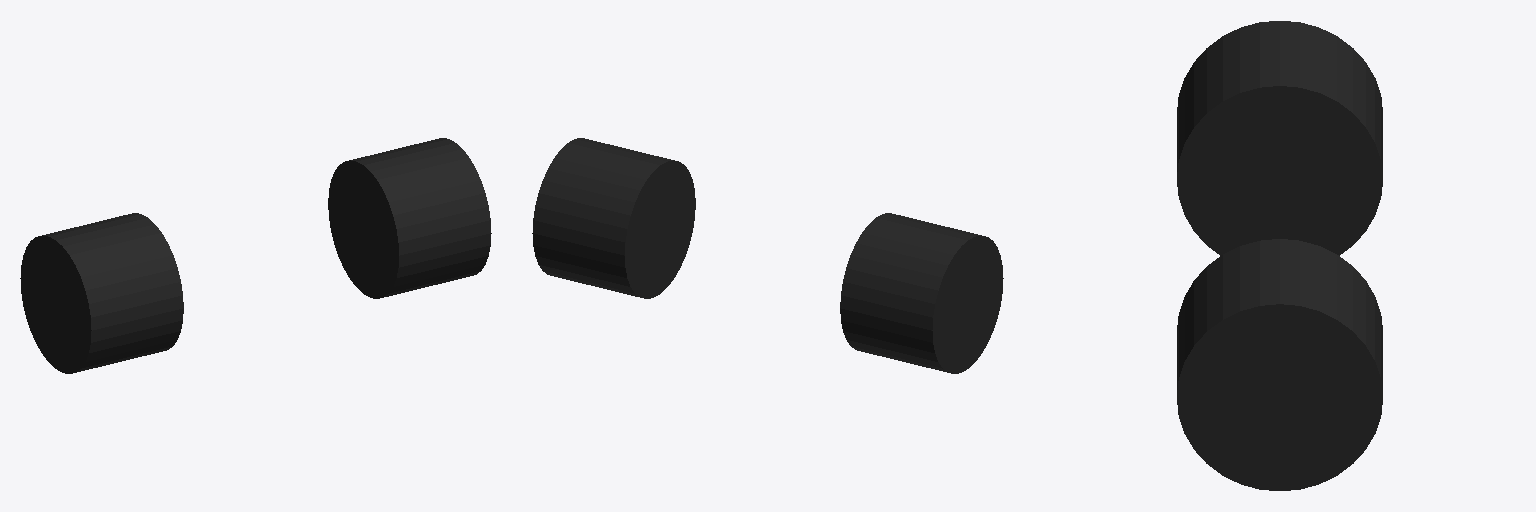
URDF robot description (dobot_arm_kickstarter):
<?xml version="0.0" ?>
<robot name="dobot_arm_kickstarter">
  <!-- URDF copyright [author] for http://pybullet.org -->
  <link name="baseLink">
    <inertial>
      <origin rpy="0 0 0" xyz="0 0 0"/>
       <mass value=".5"/>
       <inertia ixx="0.1" ixy="0" ixz="0" iyy="0.1" iyz="0" izz="0.1"/>
    </inertial>
    <visual>
      <origin rpy="0 0 0" xyz="0 0 0"/>
             <geometry>
        <mesh filename="cad/Dobot/A3.stl" scale="1 1 1"/>
      </geometry>
       <material name="blue">
        <color rgba="0.2 0.6 1 1"/>
      </material>
    </visual>
    
    <collision>
      <origin rpy="0 -1.570796 0" xyz="0 0 0"/>
      <geometry>
      <box size="0.005  0.125 0.105"/>
      </geometry>
    </collision>
  </link>
   <link name="linkA">
    <inertial>
      <origin rpy="0 0 0" xyz="0 0 0"/>
      <mass value=".3"/>
      <inertia ixx="0.048966669" ixy="0" ixz="0" iyy="0.046466667" iyz="0" izz="0.0041666669"/>
    </inertial>
    <visual>
      <origin rpy="0 0 0" xyz="0.0325 0 0"/>
      <geometry>
      <!--
        <box size="0.07  0.050 0.11"/>
        <box size="0.005  0.05 0.11"/>
      -->
       <mesh filename="cad/Dobot/A1_2.stl" scale="1 1 1"/>
      </geometry>
	   <material name="blue"/>
	  </visual>
	   <visual>
      <origin rpy="0 0 0" xyz="-0.0325 0 0"/>
      <geometry>
       <mesh filename="cad/Dobot/A1_2.stl" scale="1 1 1"/>
      </geometry>
	   <material name="blue"/>
	  </visual>
	  <visual>
      <origin rpy="0 0 0" xyz="0.005 -0.047  0.01"/>
      <geometry>
       <mesh filename="cad/Dobot/A22.stl" scale="1 1 1"/>
      </geometry>
	   <material name="blue"/>
	  </visual>
	   <visual>
      <origin rpy="0 0 0" xyz="0 -0.0245 -0.045"/>
             <geometry>
        <mesh filename="cad/Dobot/A4.stl" scale="1 1 1"/>
      </geometry>
       <material name="blue"/>
    </visual>
    
     <collision>
       <origin rpy="0 0 0" xyz="0 0 0"/>
       <geometry>
          <box size="0.07  0.055 0.11"/>
       </geometry>
     </collision>
   </link>
   <joint name="joint_baseLink_childA" type="continuous">
    <parent link="baseLink"/>
    <child link="linkA"/>
	<dynamics damping="1.0" friction="0.0001"/>
    <origin xyz="0.0 0.0 0.06"/>
		<axis xyz="0 0 1"/>
  </joint>
  
   <link name="motorA">
    <inertial>
      <origin rpy="0 1.57 0" xyz="0 0 0"/>
      <mass value=".1"/>
      <inertia ixx="0.048966669" ixy="0" ixz="0" iyy="0.046466667" iyz="0" izz="0.0041666669"/>
    </inertial>
    <visual>
      <origin rpy="0 1.57 0" xyz="0 0 0"/>
      <geometry>
        <cylinder length="0.03" radius="0.02"/>
      </geometry>
	   <material name="black">
	   <color rgba="0.2 0.2 0.2 1"/>
	   </material>
	  </visual>
     <collision>
       <origin rpy="0 1.57 0" xyz="0 0 0"/>
      <geometry>
        <cylinder length="0.03" radius="0.02"/>
      </geometry>
     </collision>
   </link>
   
    <joint name="joint_linkAmotorA" type="continuous">
    <parent link="linkA"/>
    <child link="motorA"/>
	<dynamics damping="1.0" friction="0.0001"/>
    <origin xyz="0.05 0.0 0.03"/>
    <axis xyz="1 0 0"/>
  </joint>
  
   <link name="motorB">
    <inertial>
      <origin rpy="0 1.57 0" xyz="0 0 0"/>
      <mass value=".1"/>
      <inertia ixx="0.048966669" ixy="0" ixz="0" iyy="0.046466667" iyz="0" izz="0.0041666669"/>
    </inertial>
    <visual>
      <origin rpy="0 1.57 0" xyz="0 0 0"/>
      <geometry>
        <cylinder length="0.03" radius="0.02"/>
      </geometry>
	   <material name="black">
	   <color rgba="0.2 0.2 0.2 1"/>
	   </material>
	  </visual>
     <collision>
       <origin rpy="0 1.57 0" xyz="0 0 0"/>
      <geometry>
        <cylinder length="0.03" radius="0.02"/>
      </geometry>
     </collision>
   </link>
   
    <joint name="joint_linkAmotorB" type="continuous">
    <parent link="linkA"/>
    <child link="motorB"/>
	<dynamics damping="1.0" friction="0.0001"/>
    <origin xyz="-0.05 0.0 0.03"/>
    <axis xyz="-1 0 0"/>
  </joint>
  
   <link name="linkA9">
    <inertial>
      <origin rpy="0 0 0" xyz="0 0 0.075"/>
      <mass value=".1"/>
      <inertia ixx="0.048966669" ixy="0" ixz="0" iyy="0.046466667" iyz="0" izz="0.0041666669"/>
    </inertial>
    <visual>
      <origin rpy="0 0 0" xyz="0 0 0.075"/>
      <geometry>
        <mesh filename="cad/Dobot/A9.stl" scale="1 1 1"/>
      </geometry>
	   <material name="blue"/>
	  </visual>
     <collision>
       <origin rpy="0 0 0" xyz="0 0 0.07"/>
       <geometry>
          <box size="0.005 0.02 0.18"/>
       </geometry>
     </collision>
   </link>
   
   <joint name="joint_linkAlinkA9" type="continuous">
    <parent link="linkA"/>
    <child link="linkA9"/>
	<dynamics damping="1.0" friction="0.0001"/>
    <origin xyz="0 -0.026 0.054"/>
		<axis xyz="1 0 0"/>
  </joint>
  
  
   
    <link name="linkB">
    <inertial>
      <origin rpy="0 0 0" xyz="0 0 0.075"/>
      <mass value=".1"/>
      <inertia ixx="0.048966669" ixy="0" ixz="0" iyy="0.046466667" iyz="0" izz="0.0041666669"/>
    </inertial>
    <visual>
      <origin rpy="1.570796 0 0" xyz="0.025 -0.012 0.077"/>
      <geometry>
        <!-- <box size="0.036  0.036 0.150"/> -->
        <!-- <box size="0.005  0.185 0.05"/>-->
        <mesh filename="cad/Dobot/A12_13.stl" scale="1 1 1"/>
      </geometry>
	   <material name="blue"/>
	  </visual>
	  <visual>
      <origin rpy="1.570796 0 0" xyz="-0.025 -0.012 0.077"/>
      <geometry>
        <!-- <box size="0.036  0.036 0.150"/> -->
        <!-- <box size="0.005  0.185 0.05"/>-->
        <mesh filename="cad/Dobot/A12_13.stl" scale="1 1 1"/>
      </geometry>
	   <material name="blue"/>
	  </visual>
     <collision>
       <origin rpy="0 0 0" xyz="0 0 0.075"/>
       <geometry>
          <box size="0.036  0.036 0.150"/>
       </geometry>
     </collision>
   </link>
   
   <joint name="joint_linkAlinkB" type="continuous">
    <parent link="linkA"/>
    <child link="linkB"/>
	<dynamics damping="1.0" friction="0.0001"/>
    <origin xyz="0 0.0 0.04"/>
		<axis xyz="1 0 0"/>
  </joint>
  
    <link name="linkC2">
    <inertial>
      <origin rpy="0 0 0" xyz="0 0 0.0"/>
      <mass value=".1"/>
      <inertia ixx="0.048966669" ixy="0" ixz="0" iyy="0.046466667" iyz="0" izz="0.0041666669"/>
    </inertial>
    <visual>
      <origin rpy="0 0 0" xyz="0 0 0"/>
      <geometry>
        <mesh filename="cad/Dobot/A11.stl" scale="1 1 1"/>
      </geometry>
	   <material name="blue"/>
	  </visual>
	   <collision>
       <origin rpy="0 0 0" xyz="0 0 0.0"/>
       <geometry>
          <box size="0.005  0.05 0.031"/>
       </geometry>
     </collision>
   </link>
   
    <joint name="joint_linkBlinkC2" type="continuous">
    <parent link="linkB"/>
    <child link="linkC2"/>
	<dynamics damping="1.0" friction="0.0001"/>
    <origin xyz="0.0 0.0 0.150"/>
		<axis xyz="1 0 0"/>
  </joint>
  
  <link name="linkC">
    <inertial>
      <origin rpy="0 0 0" xyz="0 0 0.08"/>
      <mass value=".1"/>
      <inertia ixx="0.048966669" ixy="0" ixz="0" iyy="0.046466667" iyz="0" izz="0.0041666669"/>
    </inertial>
    <visual>
      <origin rpy="1.570796 0 0" xyz="0.02 -0.005 0.07"/>
      <geometry>
        <!-- <box size="0.026  0.026 0.150"/> -->
        <!-- <box size="0.005  0.22 0.06"/> -->
        <mesh filename="cad/Dobot/A6_7.stl" scale="1 1 1"/>
      </geometry>
	   <material name="blue"/>
	  </visual>
	  <visual>
      <origin rpy="1.570796 0 0" xyz="-0.02 -0.005 0.07"/>
      <geometry>
        <!-- <box size="0.026  0.026 0.150"/> -->
        <!-- <box size="0.005  0.22 0.06"/> -->
        <mesh filename="cad/Dobot/A6_7.stl" scale="1 1 1"/>
      </geometry>
	   <material name="blue"/>
	  </visual>
     <collision>
       <origin rpy="0 0 0" xyz="0 0 0.075"/>
       <geometry>
          <box size="0.026  0.026 0.21"/>
       </geometry>
     </collision>
   </link>
   
    <joint name="joint_linkBlinkC" type="continuous">
    <parent link="linkB"/>
    <child link="linkC"/>
	<dynamics damping="1.0" friction="0.0001"/>
    <origin xyz="0.0 0.0 0.150"/>
		<axis xyz="1 0 0"/>
  </joint>

  <link name="linkD">
    <inertial>
      <origin rpy="0 0 0" xyz="0 0 0.02"/>
      <mass value=".1"/>
      <inertia ixx="0.048966669" ixy="0" ixz="0" iyy="0.046466667" iyz="0" izz="0.0041666669"/>
    </inertial>
    <visual>
      <origin rpy="0 0 0" xyz="0.0 0.011 0.0"/>
      <geometry>
        <!-- <box size="0.01  0.02 0.08"/> -->
        <!-- <box size="0.005  0.045 0.037"/> -->
        <mesh filename="cad/Dobot/A17.stl" scale="1 1 1"/>
      </geometry>
	   <material name="blue"/>
	  </visual>
	  <visual>
      <origin rpy="0 0 0" xyz="0.0 0. 0.0"/>
      <geometry>
        <mesh filename="cad/Dobot/A16.stl" scale="1 1 1"/>
      </geometry>
	   <material name="blue"/>
	  </visual>
	 	  
     <collision>
       <origin rpy="0 0 0" xyz="0.00 0.045 -0.017"/>
       <geometry>
          <box size="0.02  0.08 0.005"/>
       </geometry>
     </collision>
   </link>
   
    <joint name="joint_linkClinkD" type="continuous">
    <parent link="linkC"/>
    <child link="linkD"/>
	<dynamics damping="1.0" friction="0.0001"/>
    <!-- <origin xyz="0.0 0.00 0.160"/> -->
    <origin xyz="0.0 0.00 0.160"/>
		<axis xyz="1 0 0"/>
  </joint>

<link name="linkA10">
    <inertial>
      <origin rpy="0 0 0" xyz="0 0 0.08"/>
      <mass value=".1"/>
      <inertia ixx="0.048966669" ixy="0" ixz="0" iyy="0.046466667" iyz="0" izz="0.0041666669"/>
    </inertial>
    <visual>
      <origin rpy="0 0 0" xyz="0 0 0.08"/>
      <geometry>
        <mesh filename="cad/Dobot/A10.stl" scale="1 1 1"/>
      </geometry>
	   <material name="blue"/>
	  </visual>
     <collision>
       <origin rpy="0 0 0" xyz="0 0 0.08"/>
       <geometry>
          <box size="0.005 0.02 0.17"/>
       </geometry>
     </collision>
   </link>
   
   <joint name="joint_linkC2linkA10" type="continuous">
    <parent link="linkC2"/>
    <child link="linkA10"/>
	<dynamics damping="1.0" friction="0.0001"/>
    <origin xyz="0 0.026 0.014"/>
		<axis xyz="1 0 0"/>
  </joint>
  


  
</robot>

--- Facts derived from the render (not from the file) ---
The picture shows the robot from 3 angles, left to right: view 1: azimuth 30°, elevation 25°; view 2: azimuth 150°, elevation 25°; view 3: azimuth 270°, elevation 25°; orthographic projection.
Robot: dobot_arm_kickstarter — 10 links, 9 joints (9 continuous); root link baseLink; default pose: every joint at zero.
Visible links, largest first — view 1: motorA, motorB; view 2: motorA, motorB; view 3: motorA, motorB.
Boxes of the visible links, <box> form: motorA: <box>328,138,491,298</box>; motorB: <box>20,213,183,373</box>; motorA: <box>532,138,695,298</box>; motorB: <box>840,213,1003,373</box>; motorA: <box>1177,239,1382,490</box>; motorB: <box>1177,21,1382,255</box>.
Size in the robot's own frame: 0.13 by 0.04 by 0.04 metres.
Meshes: 11 distinct files referenced, 0 mesh visuals loaded (none loaded); not drawn: 14 (reference not matched to a file when rendering).